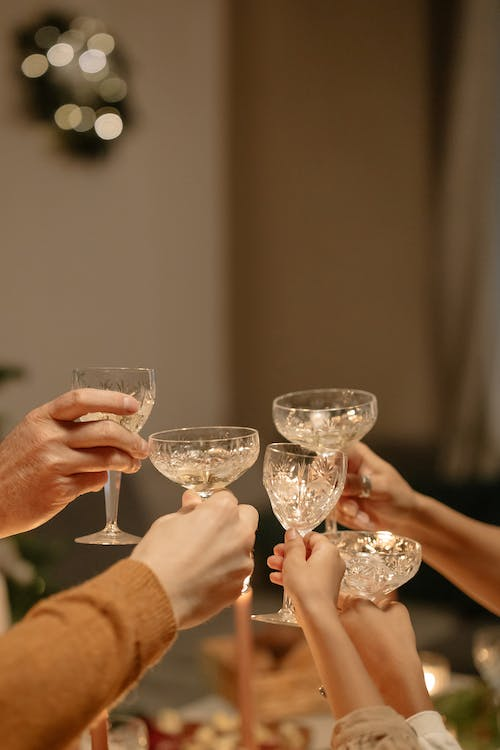alcohol: (249, 440, 349, 629), (68, 364, 160, 547), (269, 387, 381, 531), (146, 422, 263, 502), (334, 530, 423, 605)
